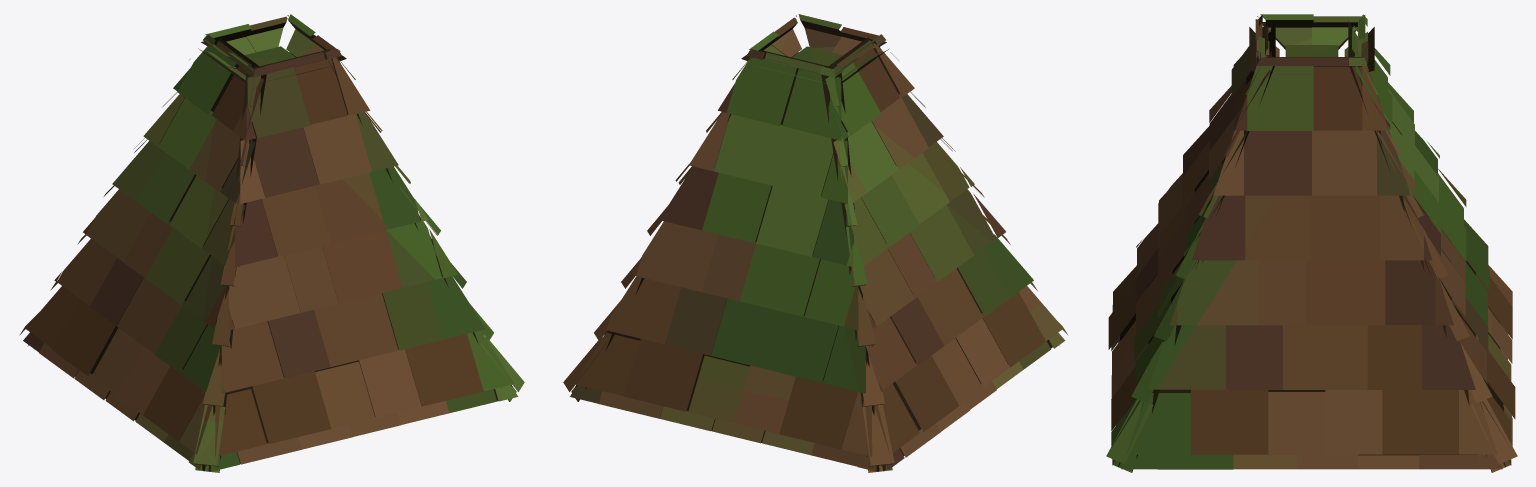
The model's file is roof-high-point-mossy.glb.
3 renders of one model, left to right at view 1: azimuth 30°, elevation 25°; view 2: azimuth 150°, elevation 25°; view 3: azimuth 270°, elevation 25°, orthographic. The views are drawn at different scales.
Visible parts, largest first — view 1: roof-high-point-mossy; view 2: roof-high-point-mossy; view 3: roof-high-point-mossy.
Part boxes in pixels (box(x1,y1,x2,y2)): roof-high-point-mossy: box(19, 14, 524, 472); roof-high-point-mossy: box(563, 14, 1068, 472); roof-high-point-mossy: box(1106, 14, 1517, 472).
Size of the model in its own units: 1.1 by 1.02 by 1.1.
